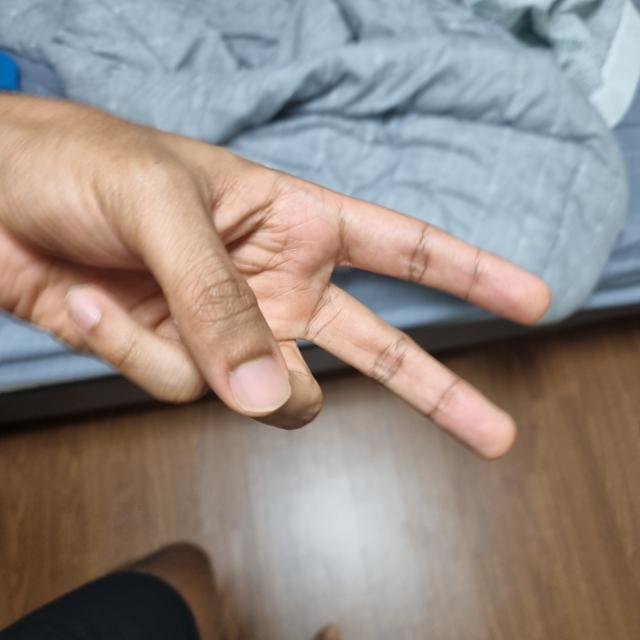Scissors: (3, 101, 538, 438)
